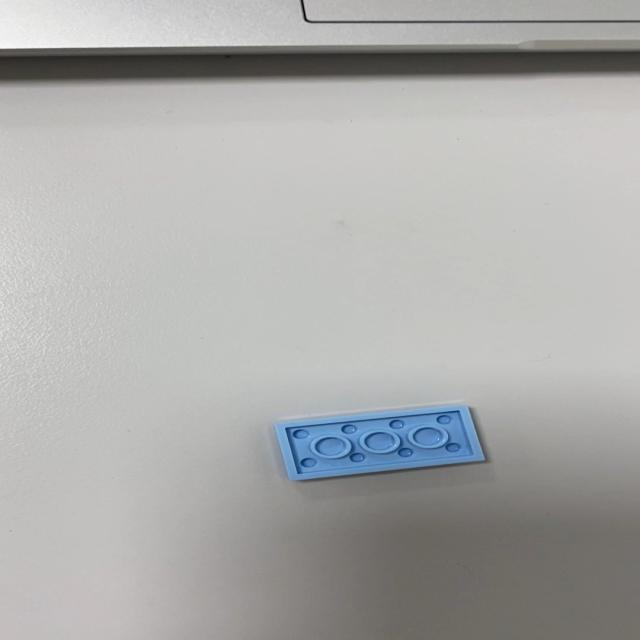C4x2x0: (271, 404, 486, 481)
